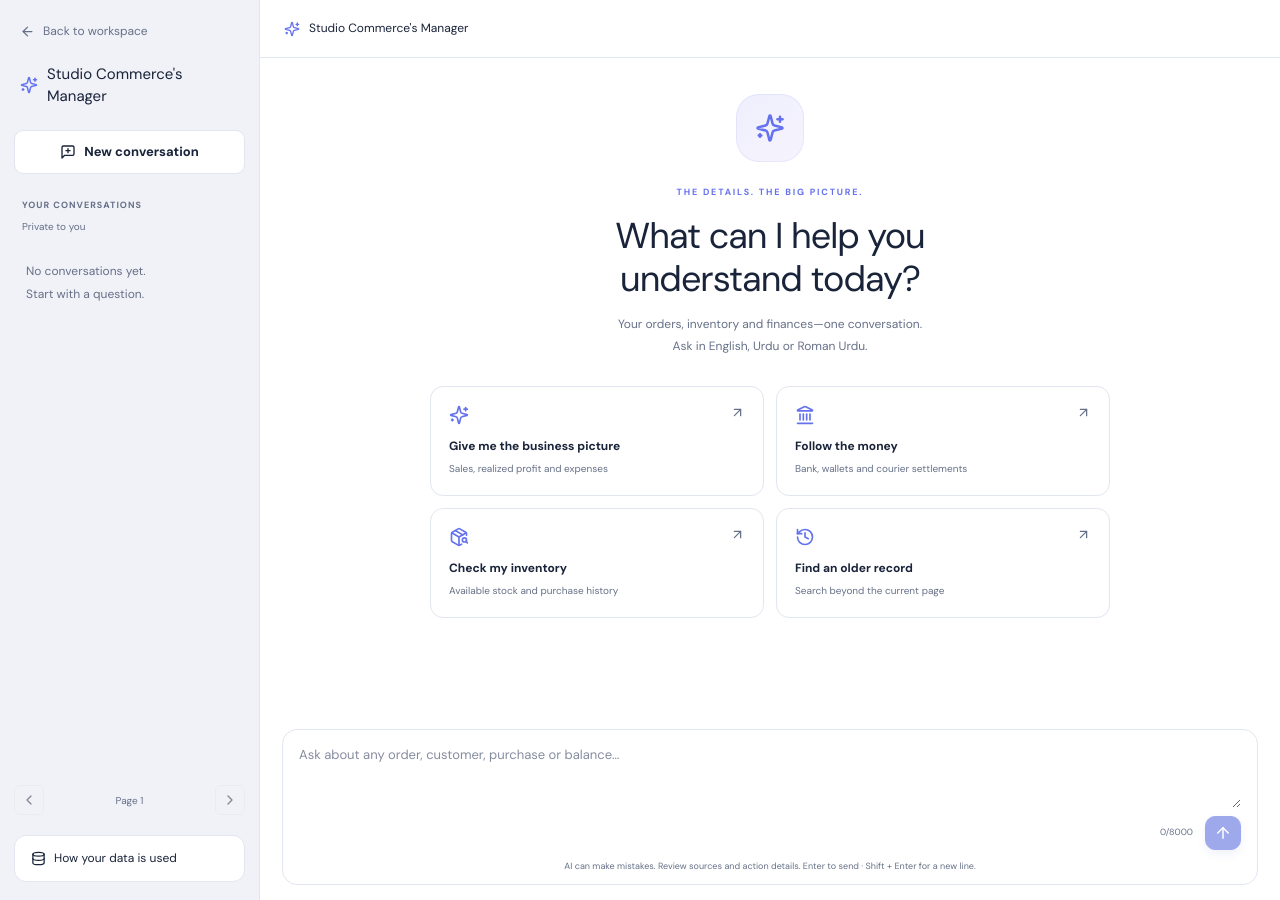
Test: creates a conversation, shows evidence, and requires explicit confirmation
Type "Show the business picture" into the text box named "Ask your Manager".
click(770, 775); type("Show the business picture")  # box 299,742 -> 1241,808
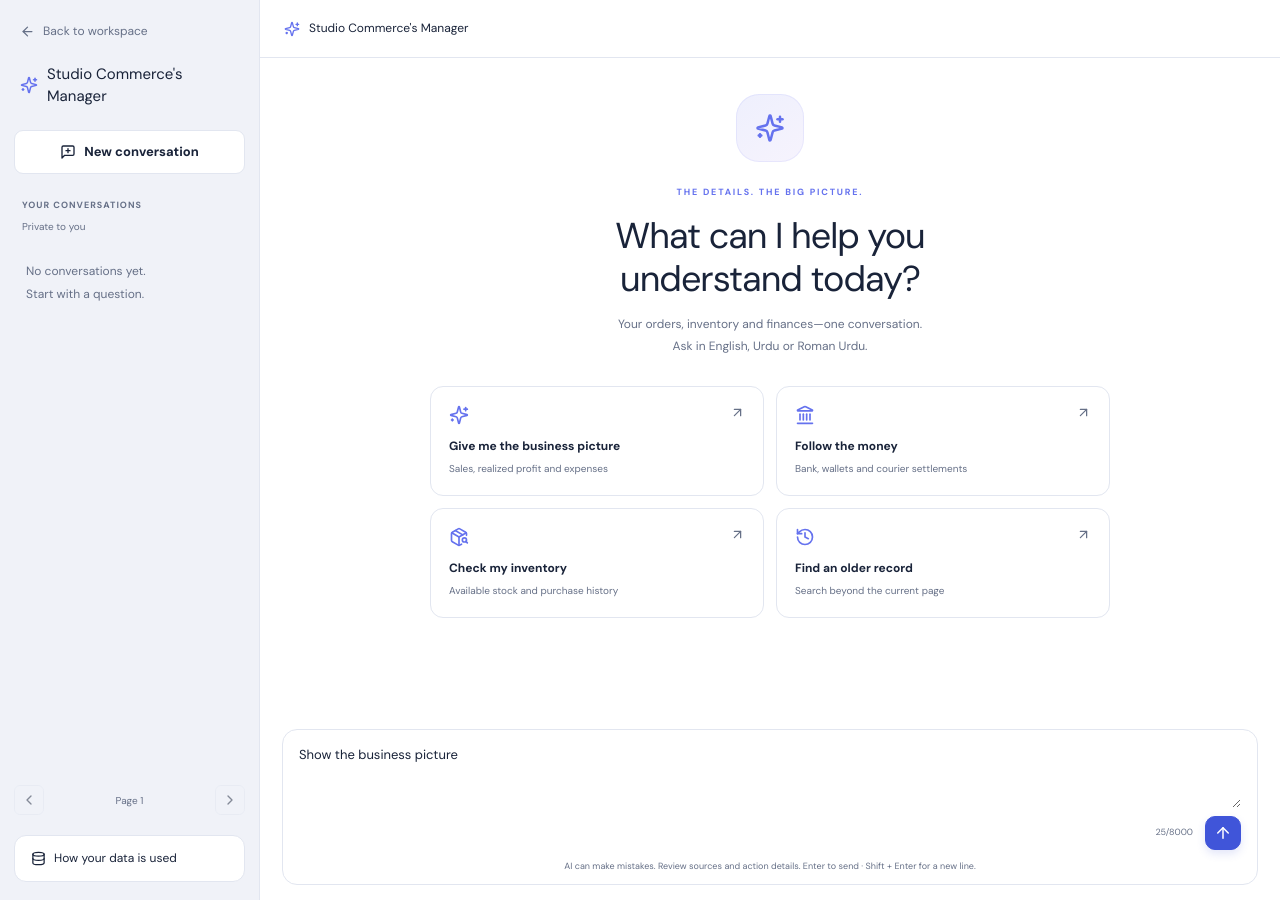
Click the button named "Send message".
click(1223, 833)  # box 1205,816 -> 1241,850
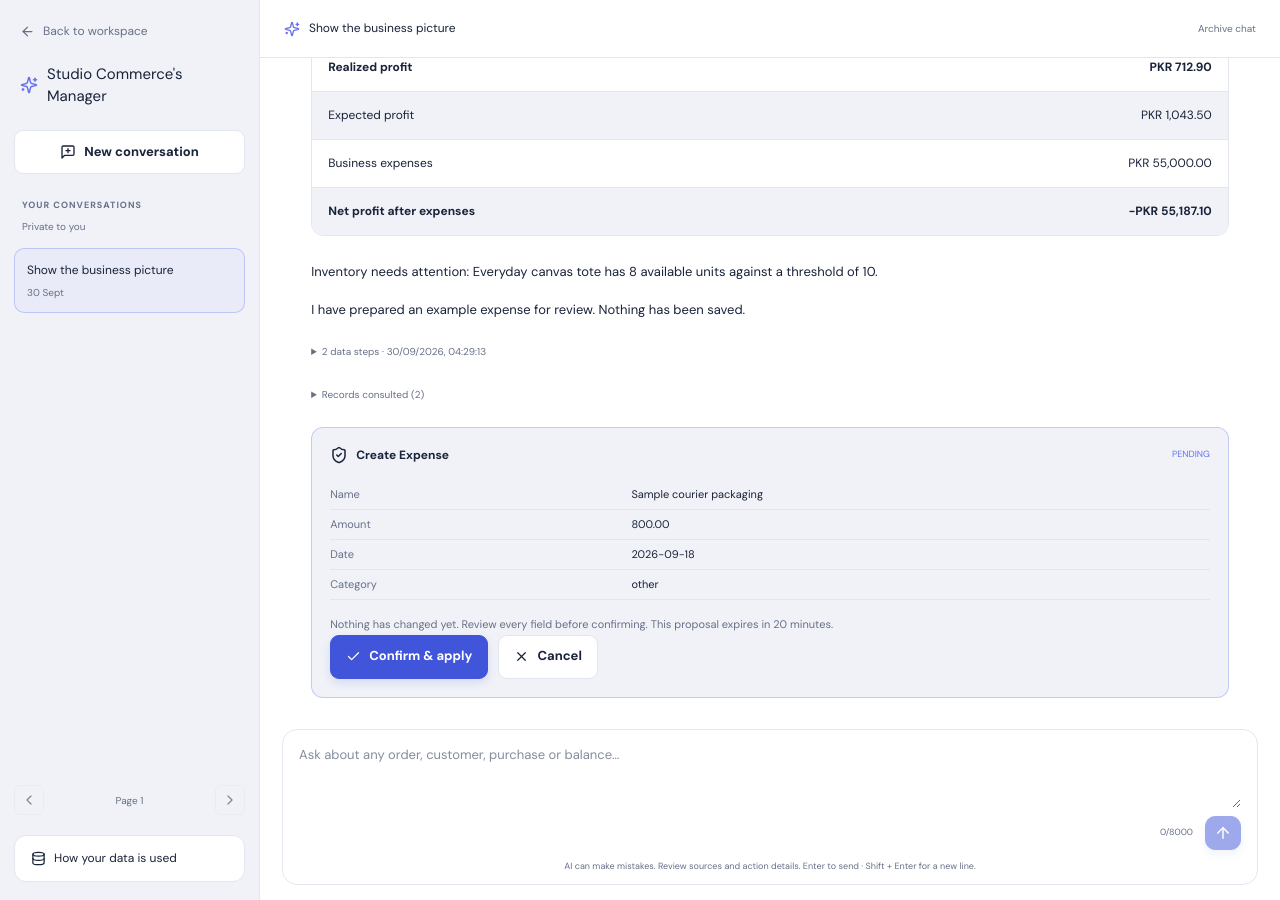
Check: the heading "Records consulted (2)" is shown, box 322,388 -> 424,400
Click the button "Confirm & apply".
click(409, 657)  # box 330,635 -> 488,679
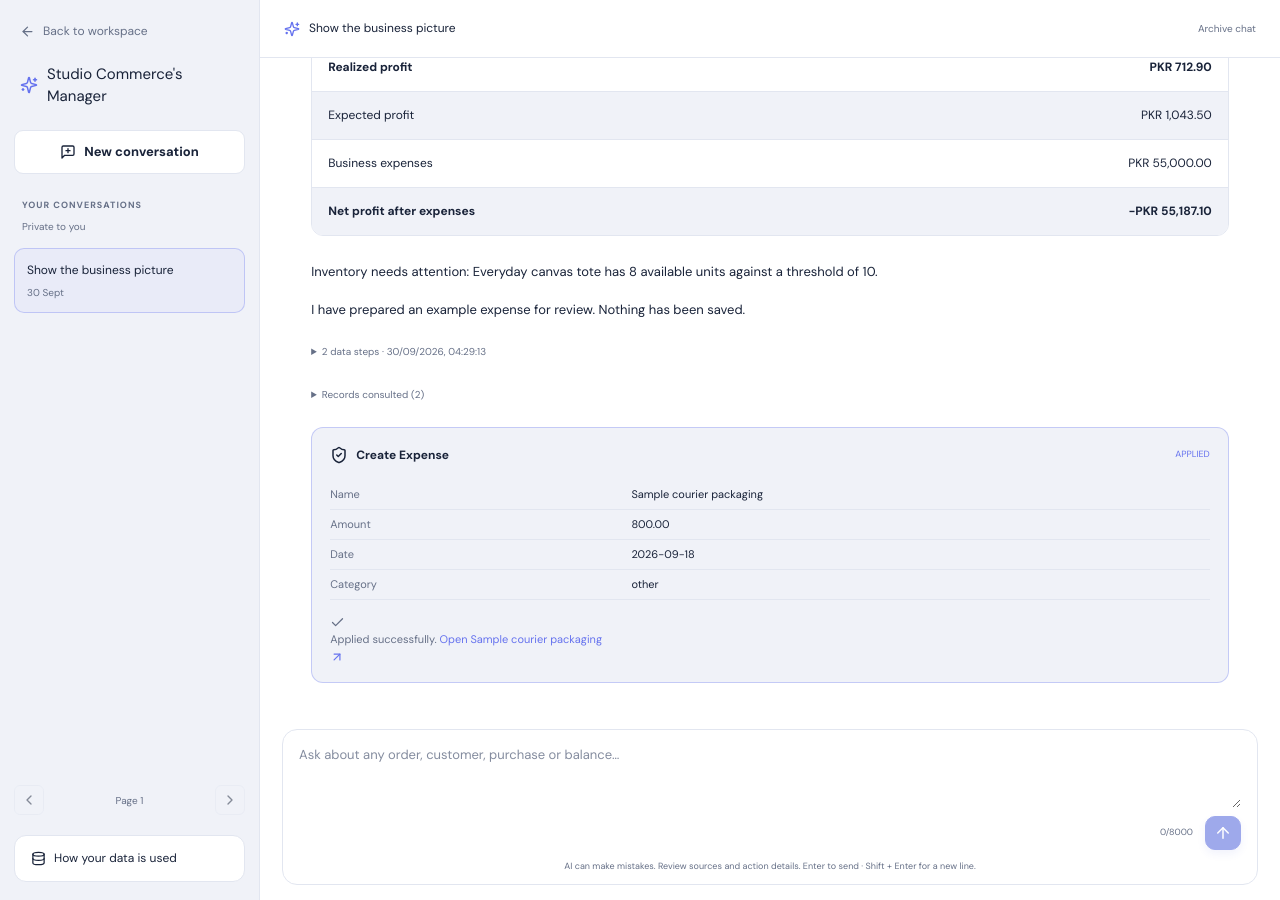
Check: the text "Applied successfully." is shown, box 330,632 -> 437,646
